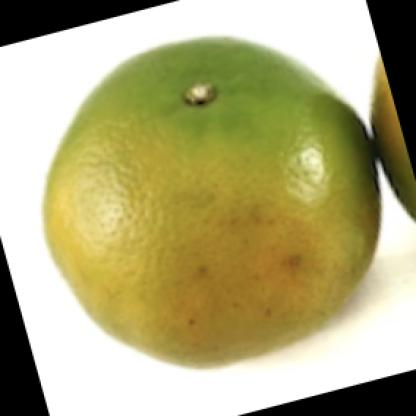fresh: (42, 39, 381, 372)
